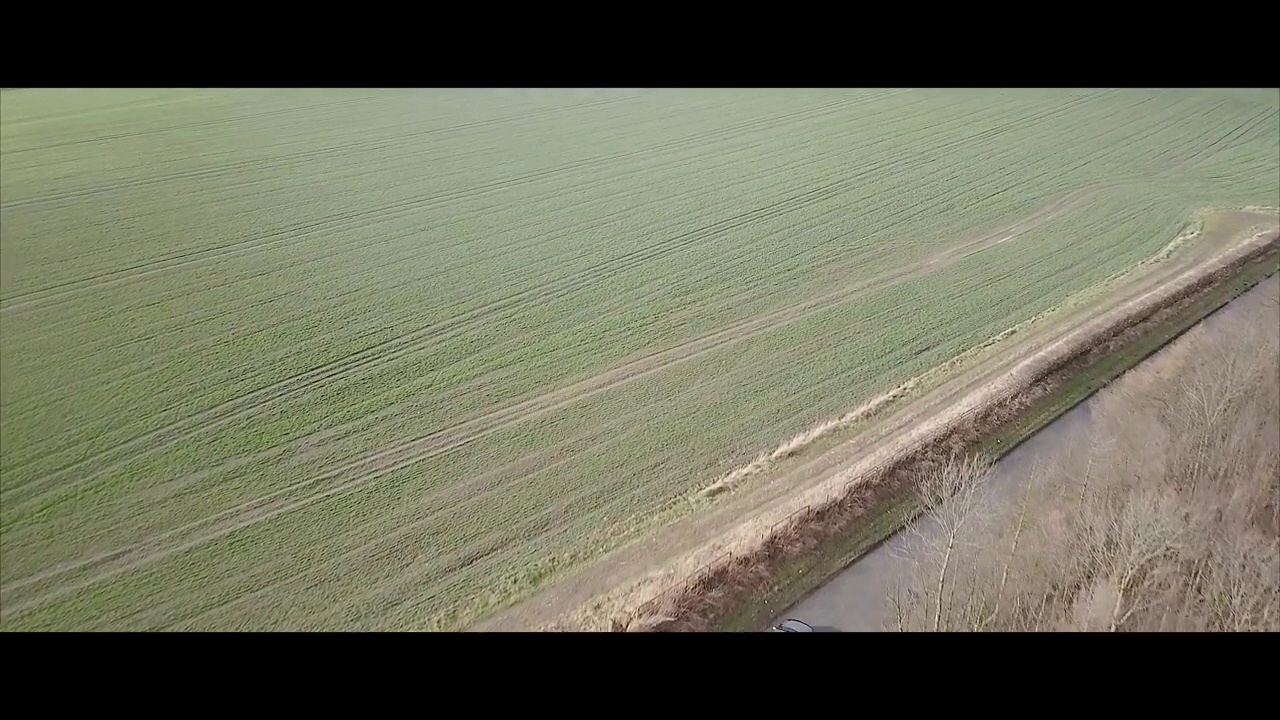araba: (760, 617, 819, 632)
